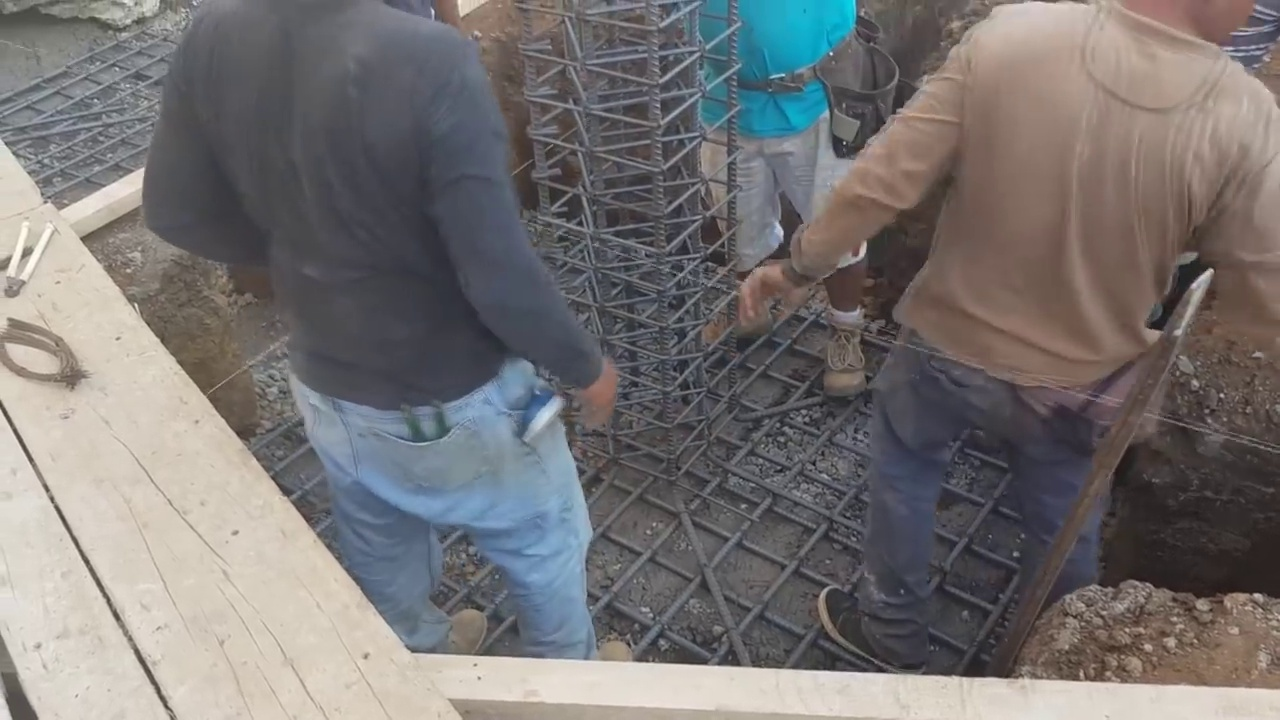person: (737, 3, 1279, 676), (139, 0, 630, 660), (685, 0, 869, 398)
